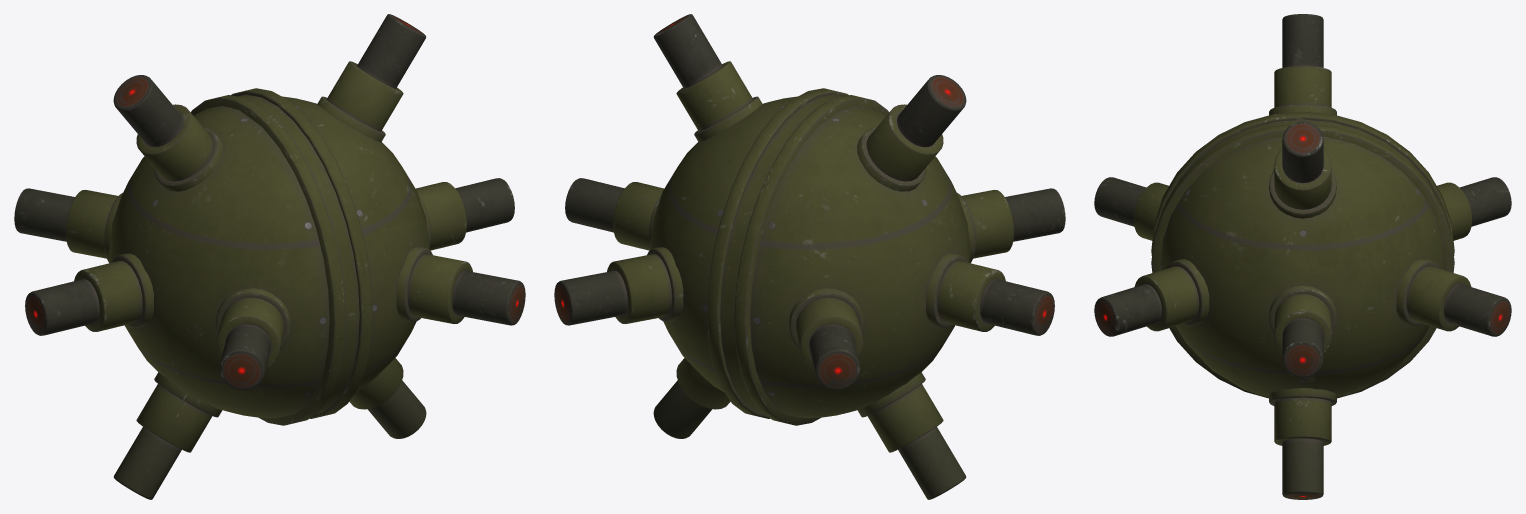
Rendered from Bomb_2.fbx.
3 renders of one model, left to right at view 1: azimuth 30°, elevation 25°; view 2: azimuth 150°, elevation 25°; view 3: azimuth 270°, elevation 25°, orthographic. The views are drawn at different scales.
Parts seen in each view (by area): view 1: Bomb_2; view 2: Bomb_2; view 3: Bomb_2.
Boxes of the visible parts, <box> form: Bomb_2: <box>14,14,525,499</box>; Bomb_2: <box>554,14,1065,499</box>; Bomb_2: <box>1094,14,1511,499</box>.
Bounding box in the file's own units: 100 × 85.58 × 85.58.
